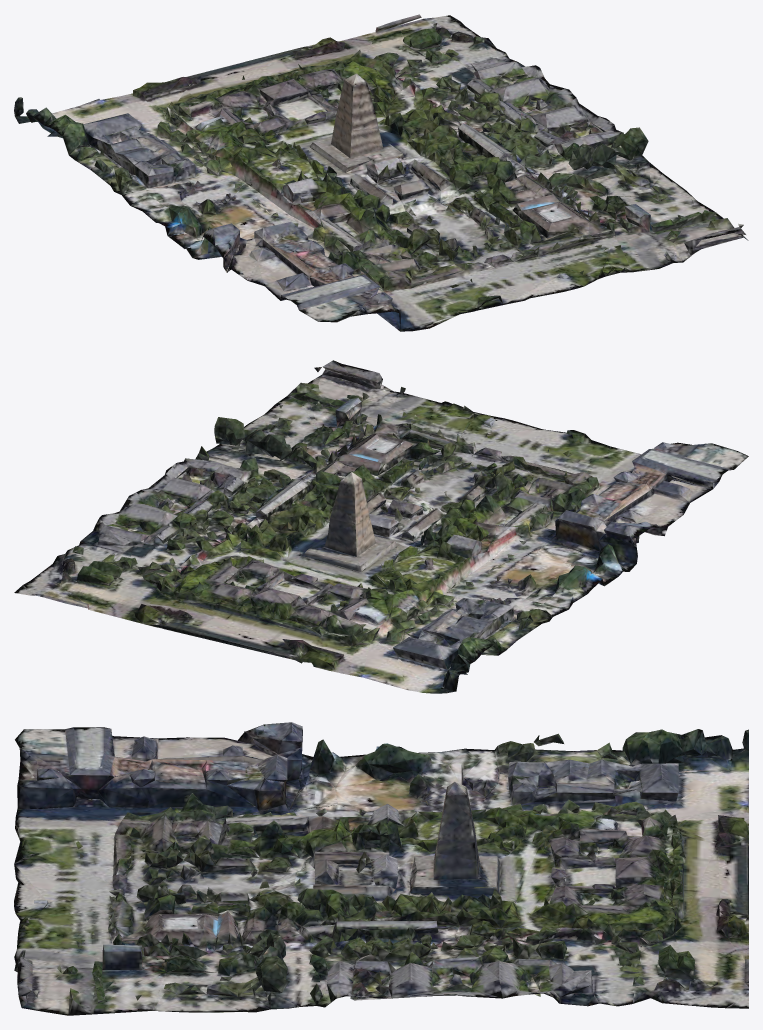
The picture shows the model from 3 angles, top to bottom: view 1: azimuth 30°, elevation 25°; view 2: azimuth 150°, elevation 25°; view 3: azimuth 270°, elevation 25°; orthographic projection. The views are drawn at different scales.
Size of the model in its own units: 340 by 79.35 by 410.
1 material, 1 textured.
